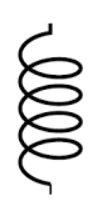inductor: (4, 15, 86, 191)
